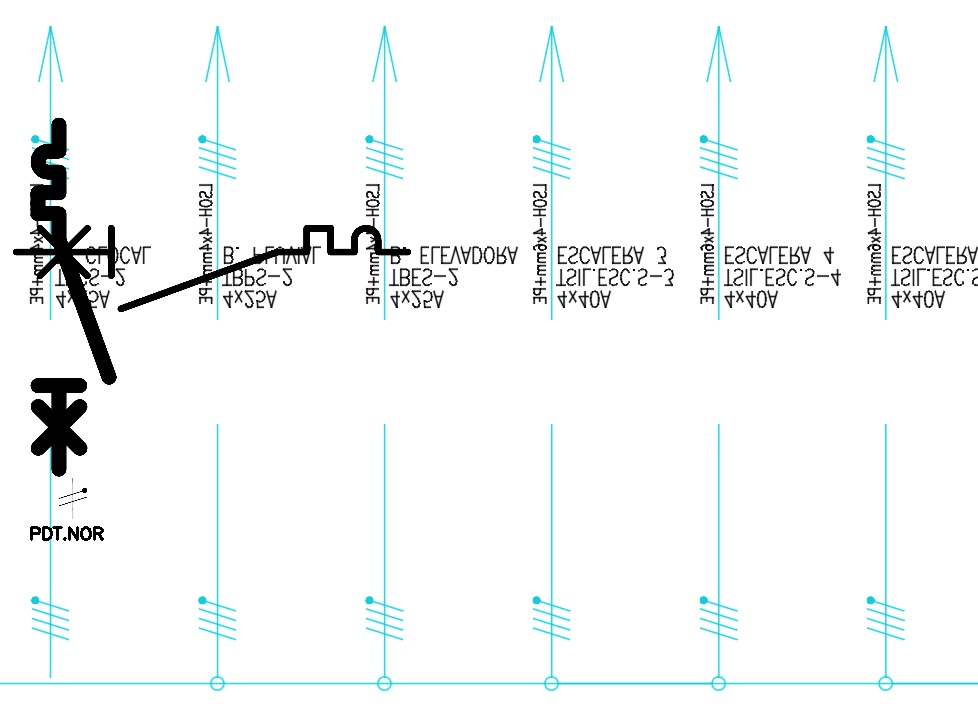interruptor_termomagnetico: (6, 218, 418, 319), (29, 116, 117, 478)
